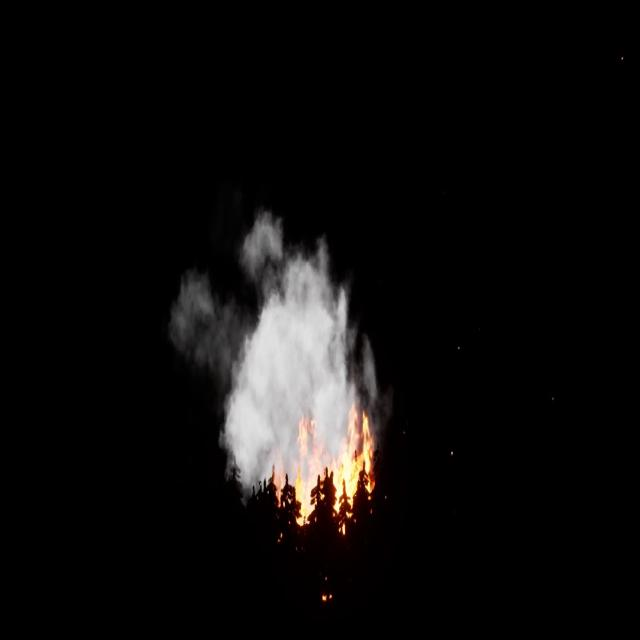fire: (272, 399, 381, 512)
smoke: (171, 208, 378, 488)
